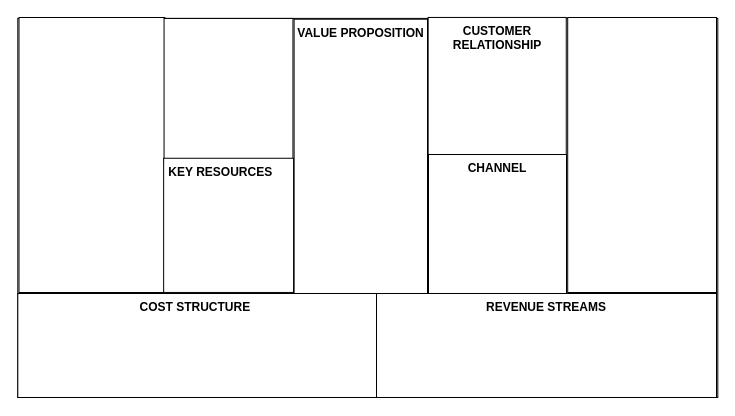
This 735x416 diagram has some shape labels left out. Here are the shapes that lost their labels. From the top down, the box of each, then its label:
(163, 18, 293, 163): KEY ACTIVITIES
(18, 16, 165, 292): KEY PARTNERS
(567, 16, 716, 292): CUSTOMER SEGMENT
